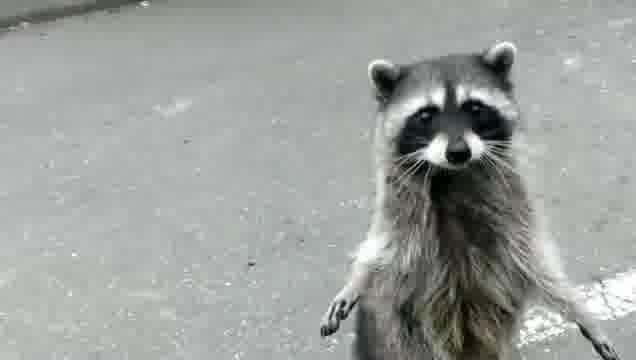raccoon: (319, 40, 622, 360)
